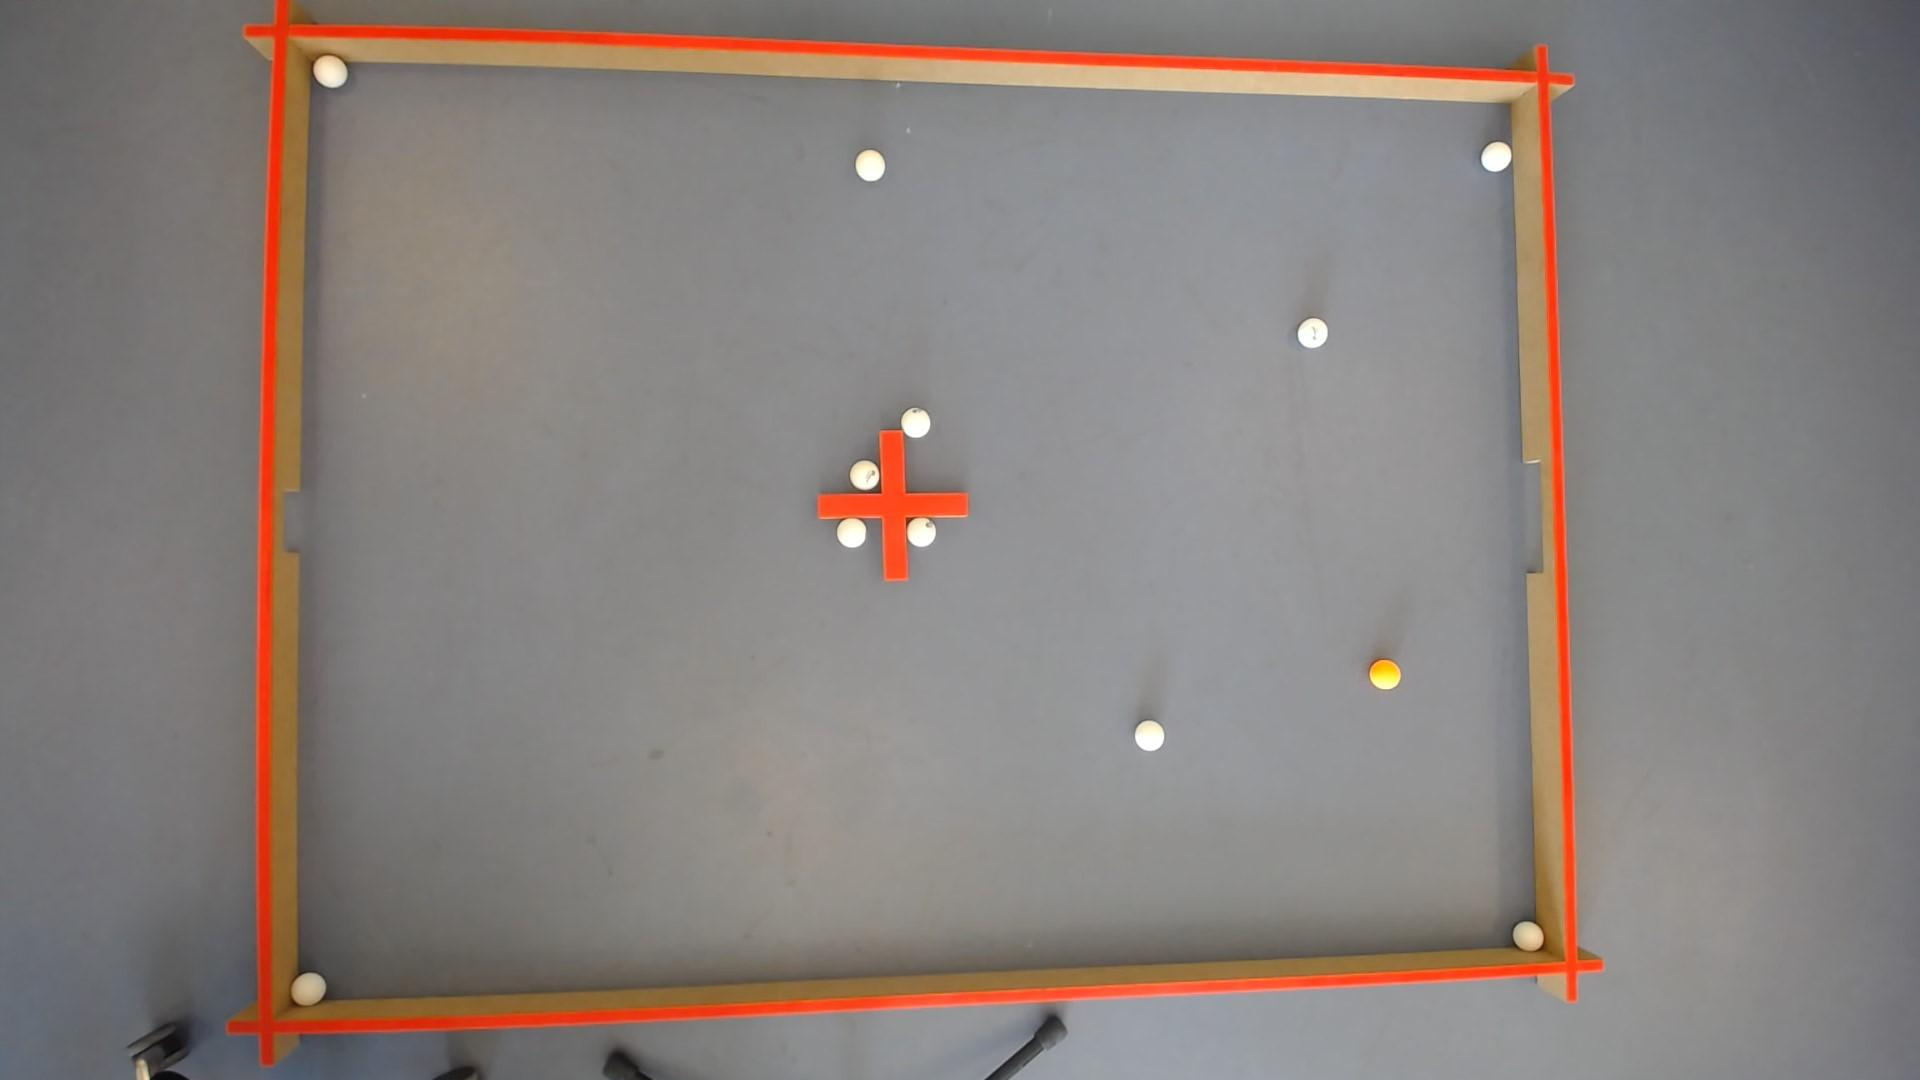orange: (1371, 658, 1403, 690)
white: (287, 973, 324, 1006), (311, 51, 345, 86), (1484, 138, 1515, 170), (855, 146, 885, 179), (1299, 316, 1331, 347), (1515, 922, 1547, 952), (901, 406, 931, 436), (1135, 720, 1166, 750), (851, 459, 880, 489), (907, 516, 936, 546), (837, 517, 866, 546)
